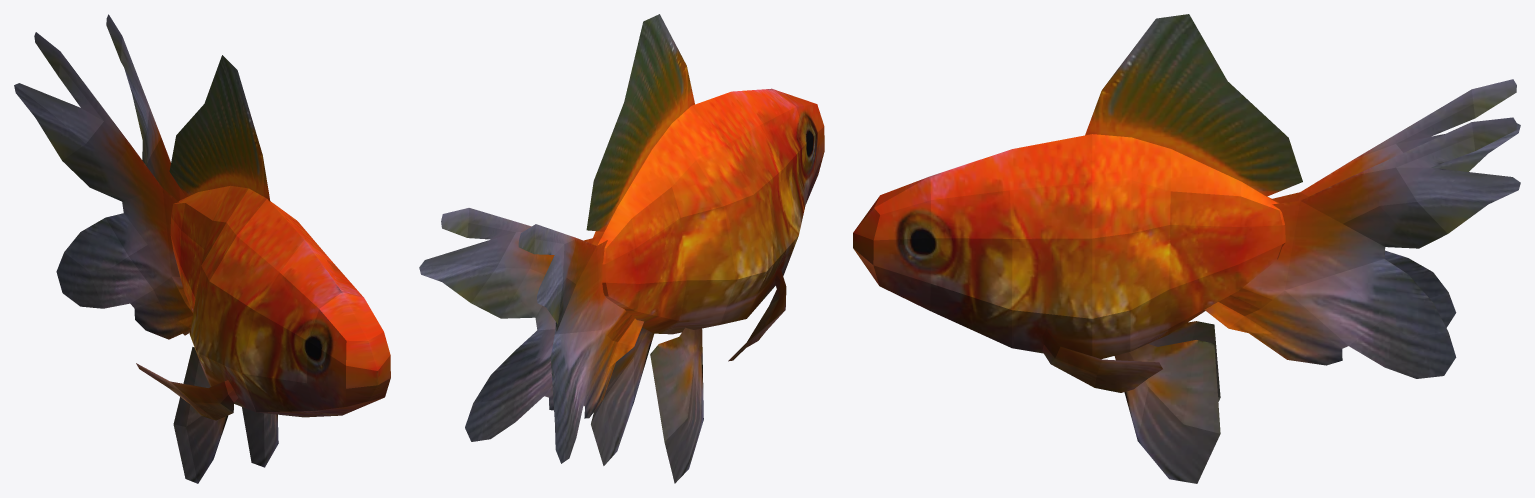
Rendered from goldfish_model.obj.
The picture shows the model from 3 angles, left to right: view 1: azimuth 30°, elevation 25°; view 2: azimuth 150°, elevation 25°; view 3: azimuth 270°, elevation 25°; orthographic projection. The views are drawn at different scales.
Visible parts, largest first — view 1: goldfish; view 2: goldfish; view 3: goldfish.
Part boxes in pixels (x1,y1,x2,y2): goldfish: [14, 14, 390, 483]; goldfish: [419, 14, 824, 483]; goldfish: [853, 14, 1520, 483].
Size of the model in its own units: 3.7 by 7.38 by 9.87.
1 material, 1 textured.
